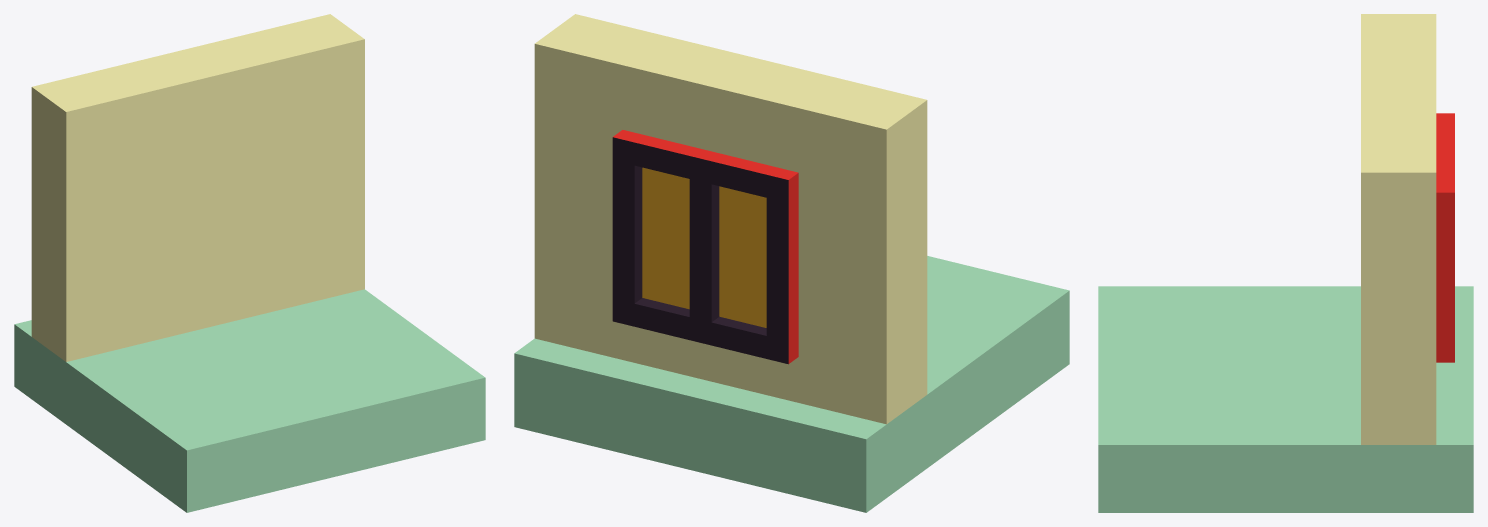
Rendered from BaseWindow.fbx.
3 views of the same model, side by side, from view 1: azimuth 30°, elevation 25°; view 2: azimuth 150°, elevation 25°; view 3: azimuth 270°, elevation 25° (orthographic). The views are drawn at different scales.
Visible parts, largest first — view 1: BaseWindow; view 2: BaseWindow; view 3: BaseWindow.
Part boxes in pixels (x1,y1,x2,y2): BaseWindow: (14, 14, 485, 512); BaseWindow: (514, 14, 1069, 512); BaseWindow: (1098, 14, 1473, 512).
Bounding box in the file's own units: 200 × 200 × 200.
